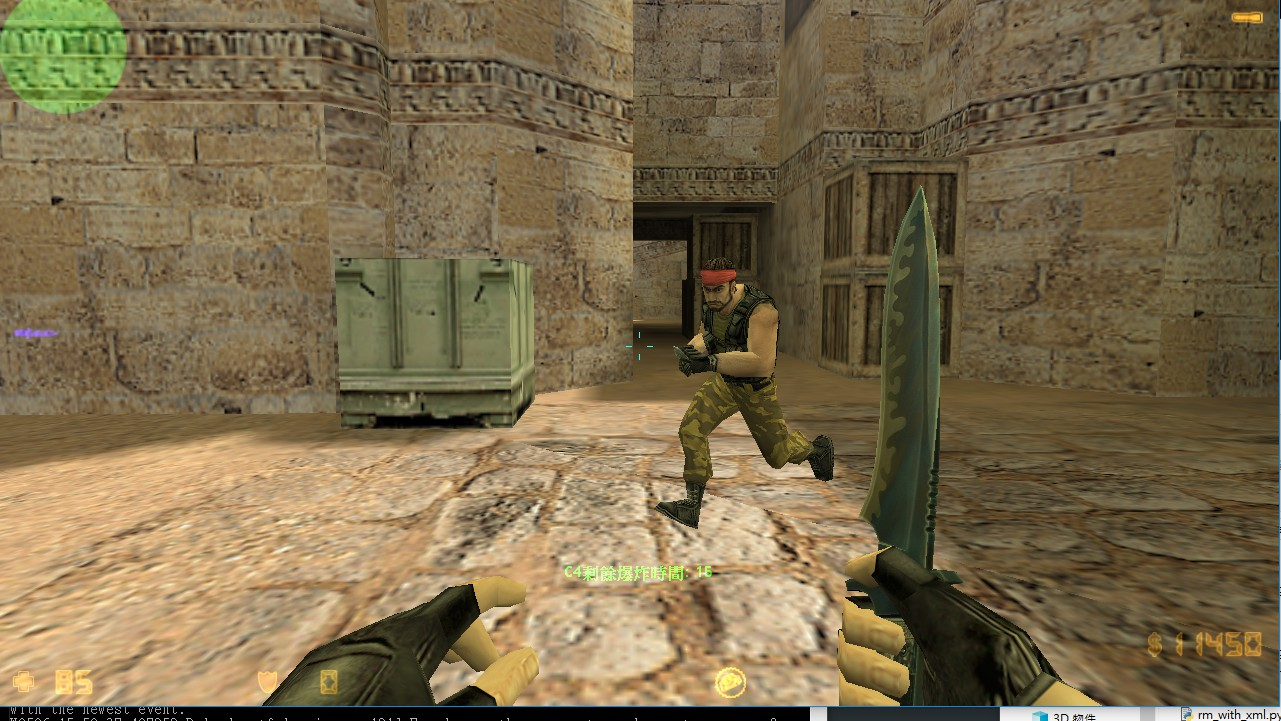person: (661, 252, 836, 544)
